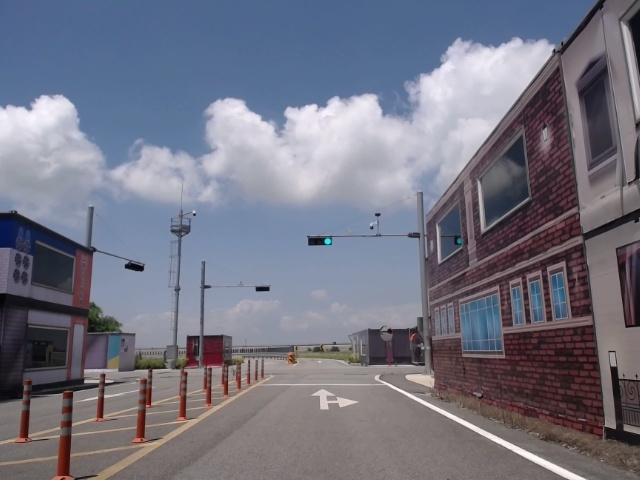green_3: (307, 236, 331, 244)
